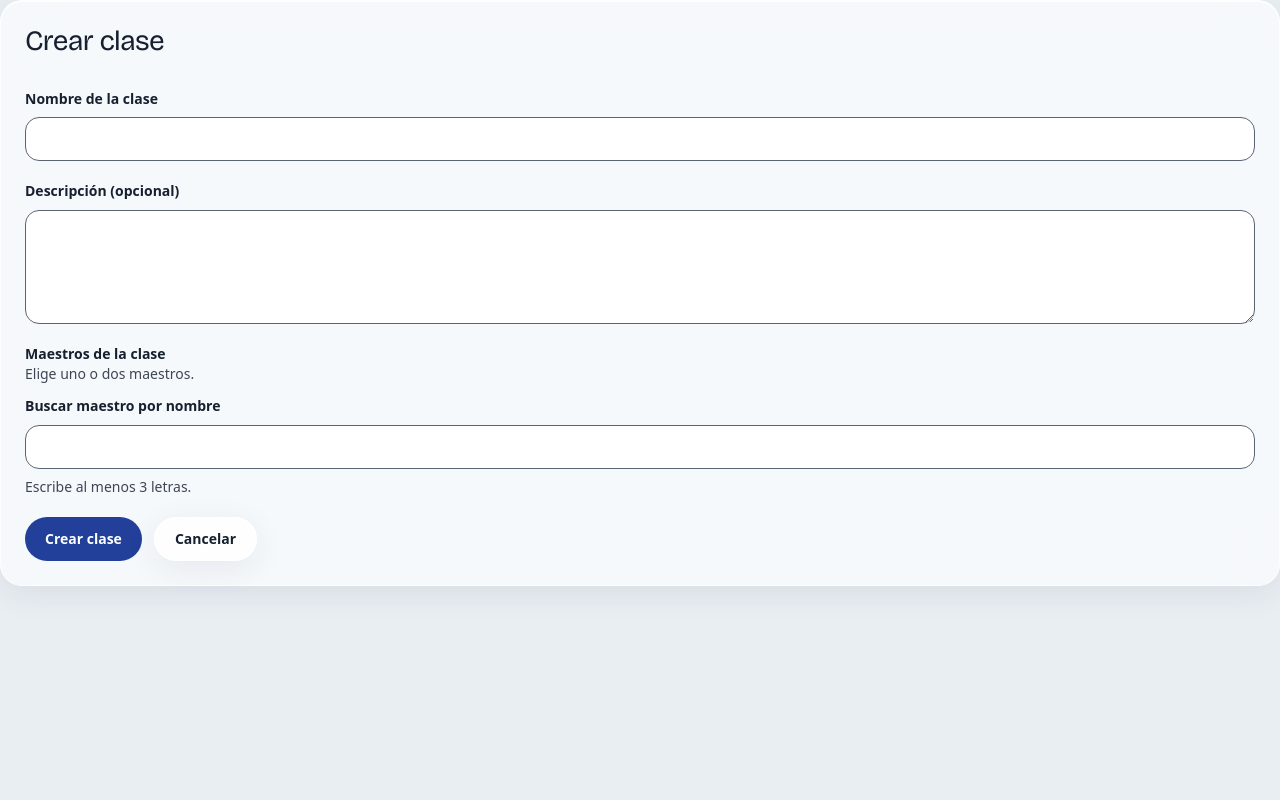
Test: CrearClaseView › PR-2C04: el maestro elegido sigue en los resultados con «Ya elegido», sin botón para repetirlo
Type "Luis" into the field labelled "Buscar maestro por nombre" at (640, 447), box [25,425,1255,469]
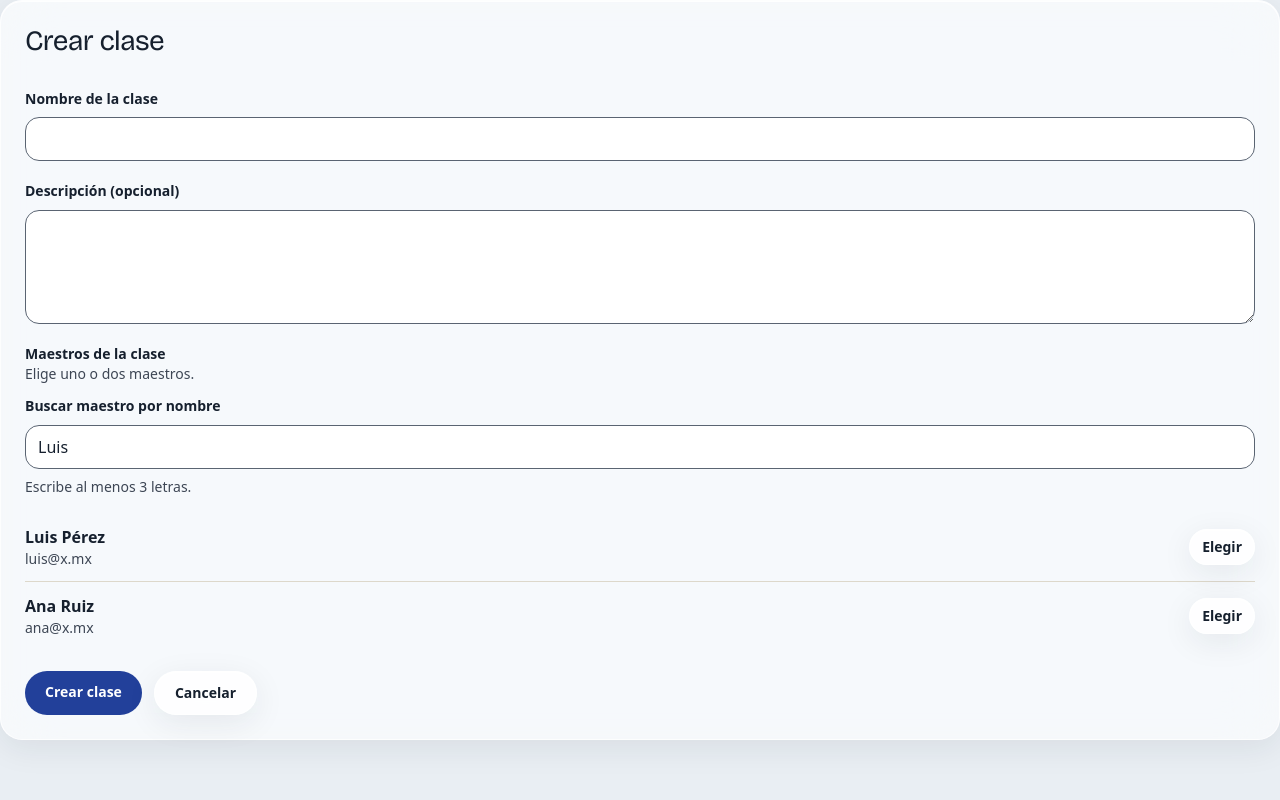
Click the button named "Elegir Luis Pérez" at (1222, 547), box [1189,529,1255,565]
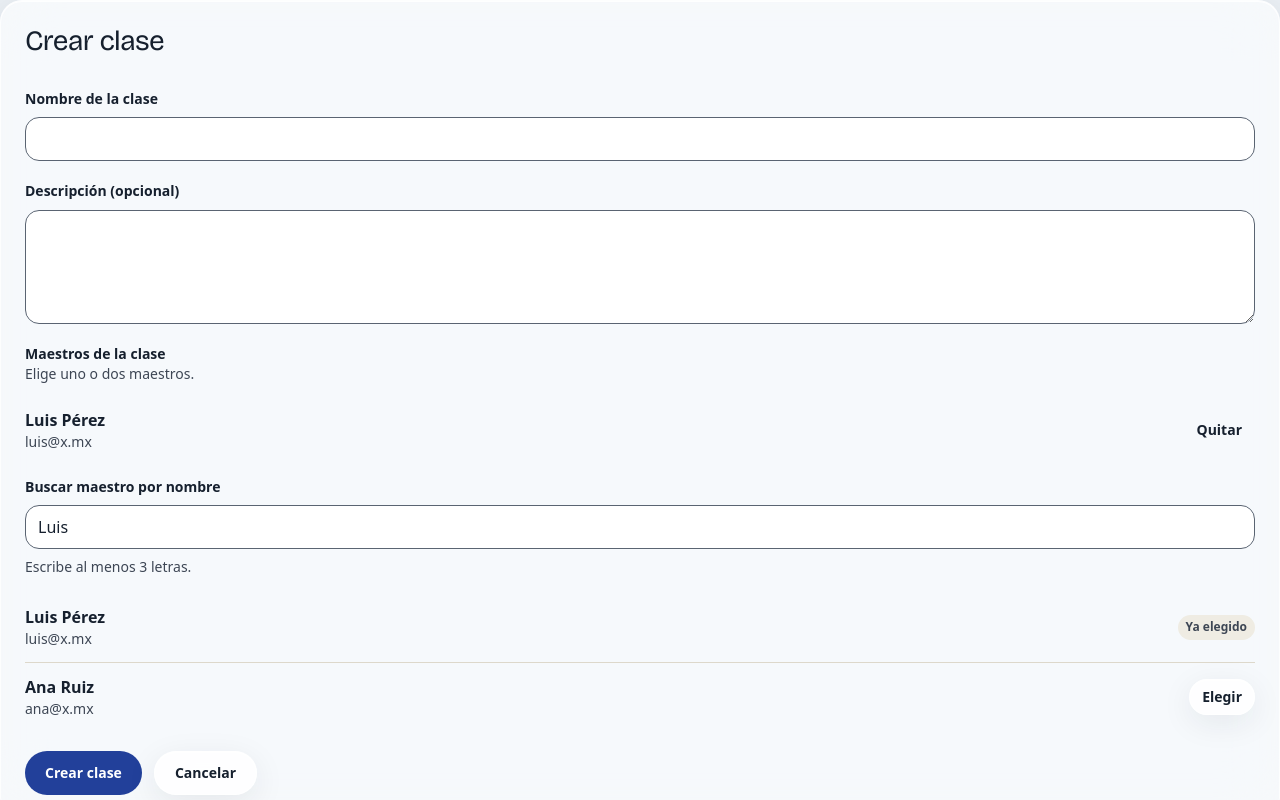
Expected: the button "Elegir Luis Pérez" is not shown
Expected: the button named "Elegir Ana Ruiz" is shown, [1189,679,1255,715]
Expected: the text "Ya elegido" is shown, [1178,615,1255,640]
